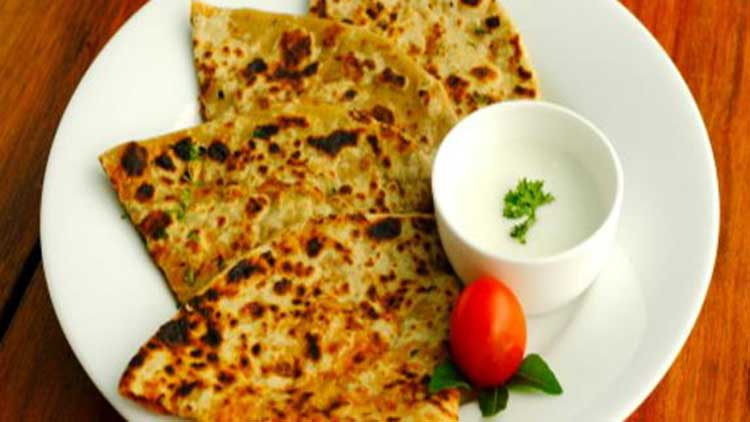aloo_paratha: (99, 3, 537, 421)
